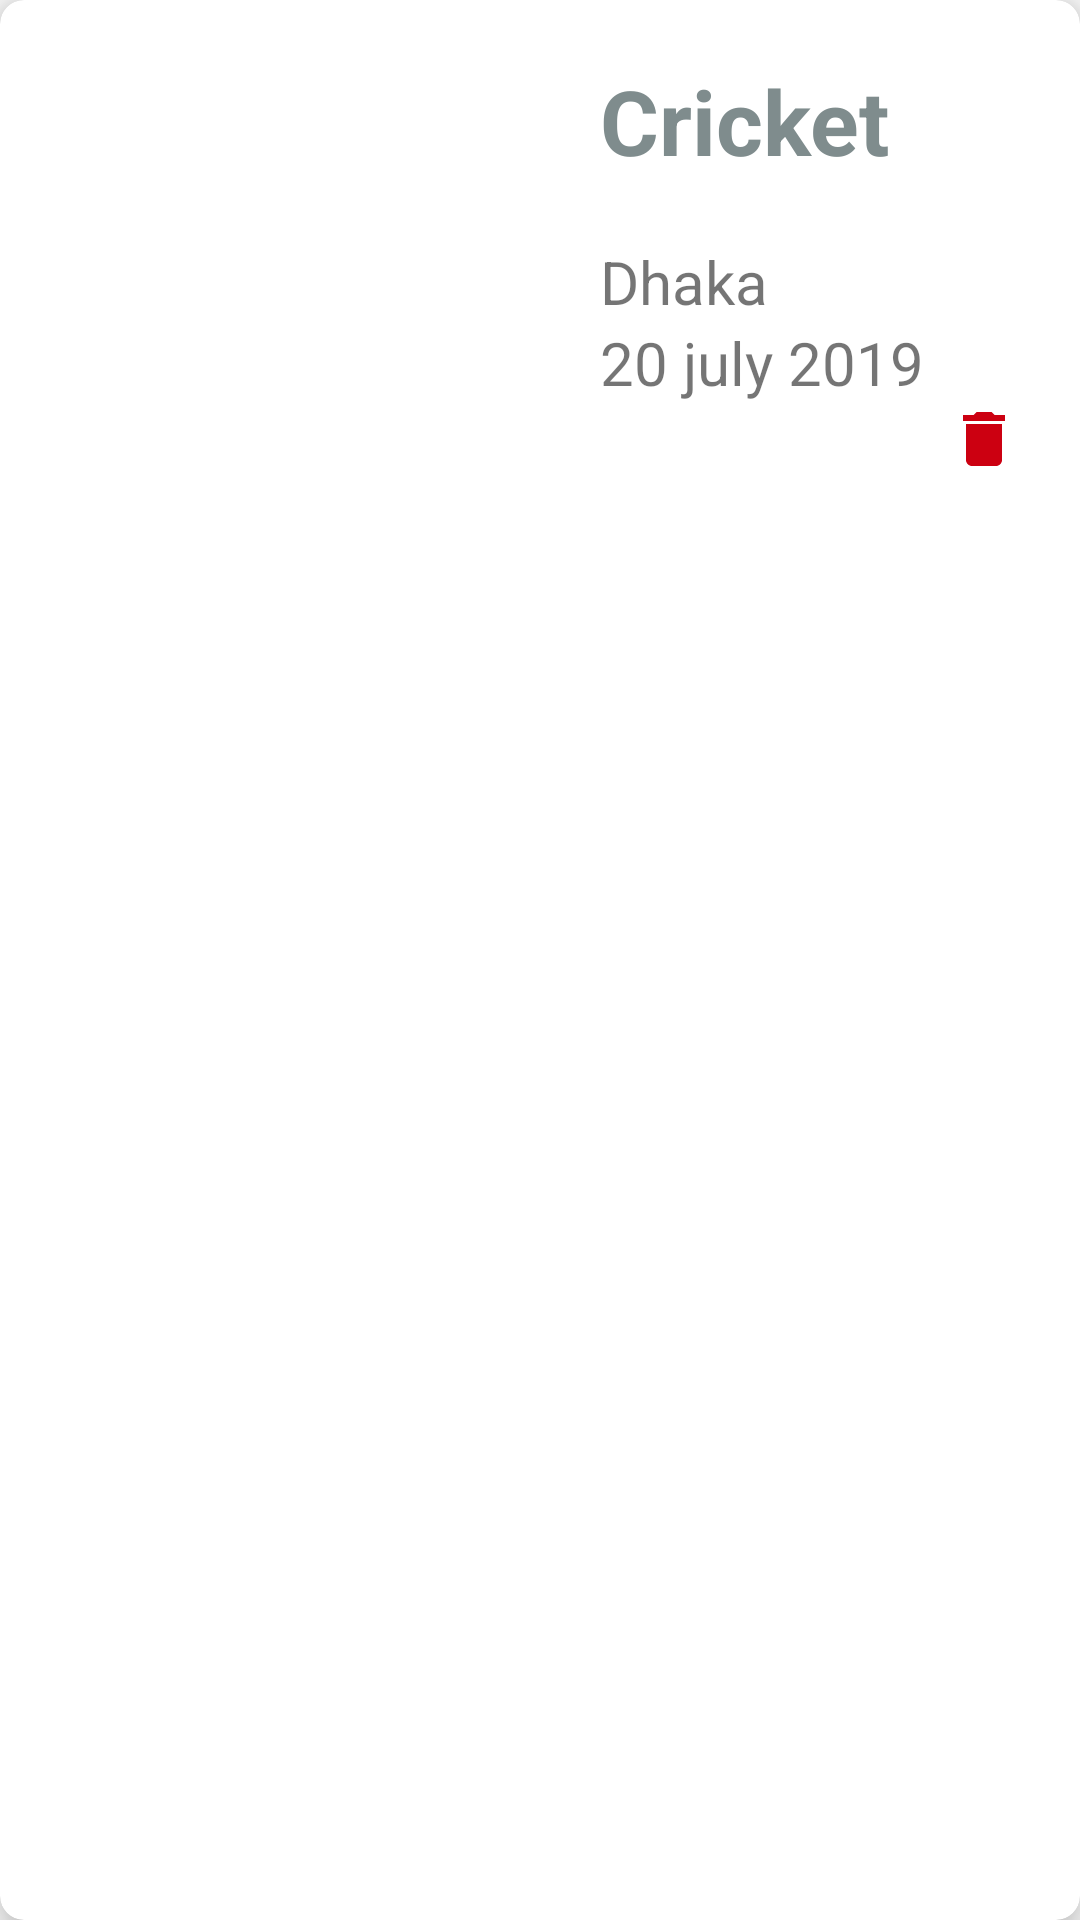

Point at icon controls on the screen. Image size 1080*1920, points as (x=x, y=y).
delete: (x=984, y=439)
